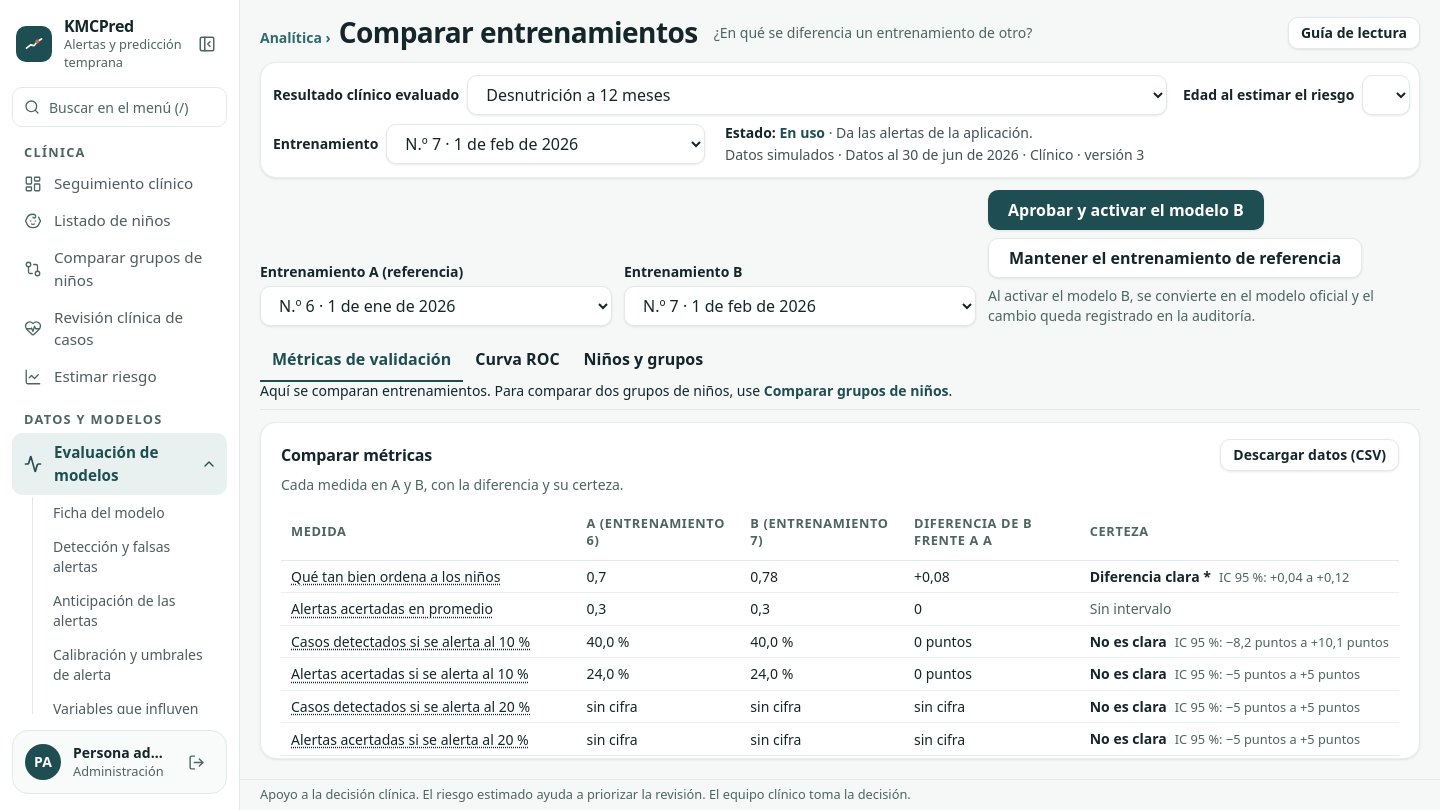
it: comparar entrenamientos: intervalos y Aprobar B › si se cancela la confirmación no se aprueba nada, y «Mantener A» no cambia nada
The width and height of the screenshot is (1440, 810).
Step 1. Click the button "Aprobar y activar el modelo B" → click(1126, 210), box left=988, top=190, right=1264, bottom=230
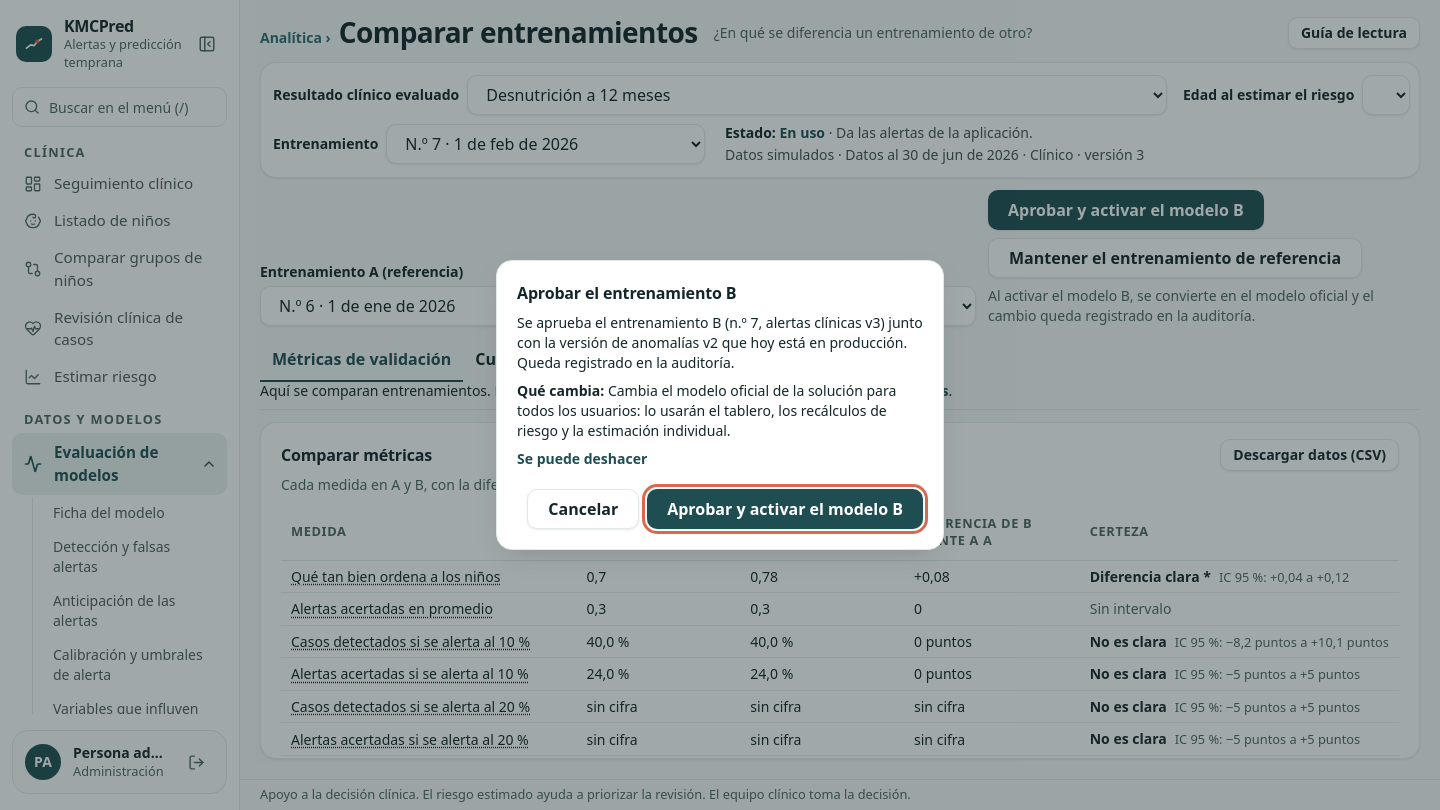
Step 2. Click the button "Cancelar" → click(583, 509), box left=527, top=489, right=639, bottom=529
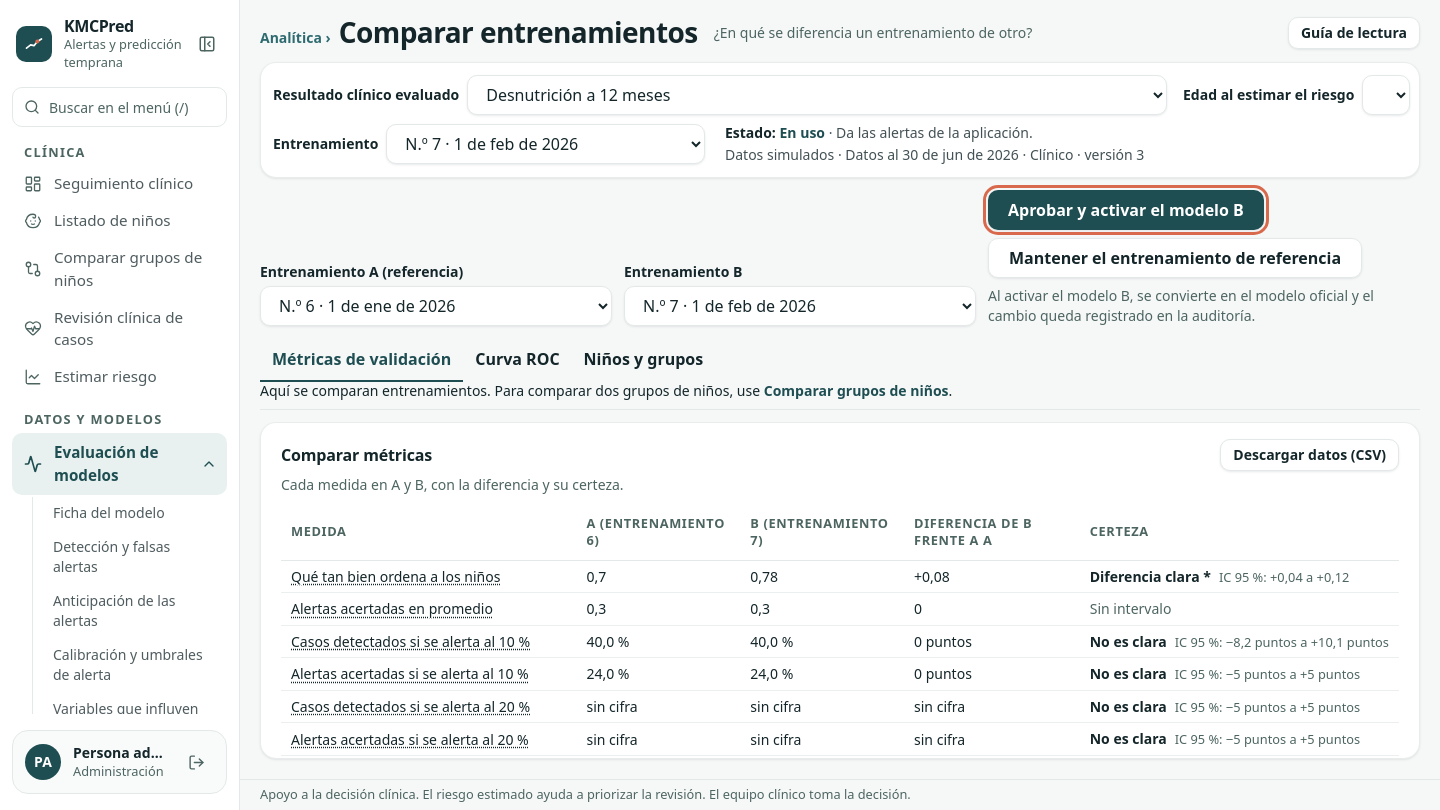
Step 3. Click the button "Mantener el entrenamiento de referencia" → click(1175, 258), box left=988, top=238, right=1362, bottom=278
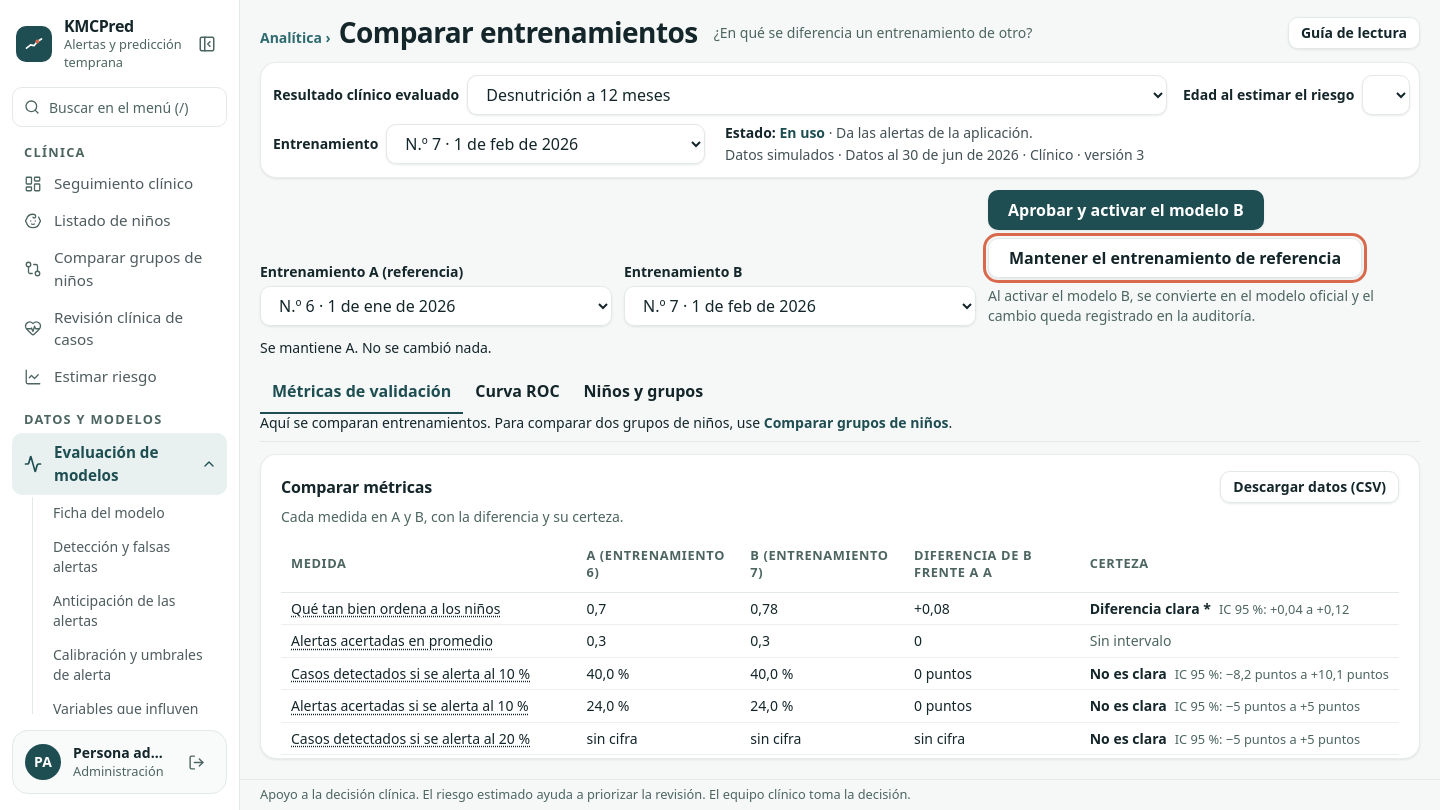
Result: the text "Se mantiene A. No se cambió nada." is shown at left=260, top=338, right=492, bottom=357
